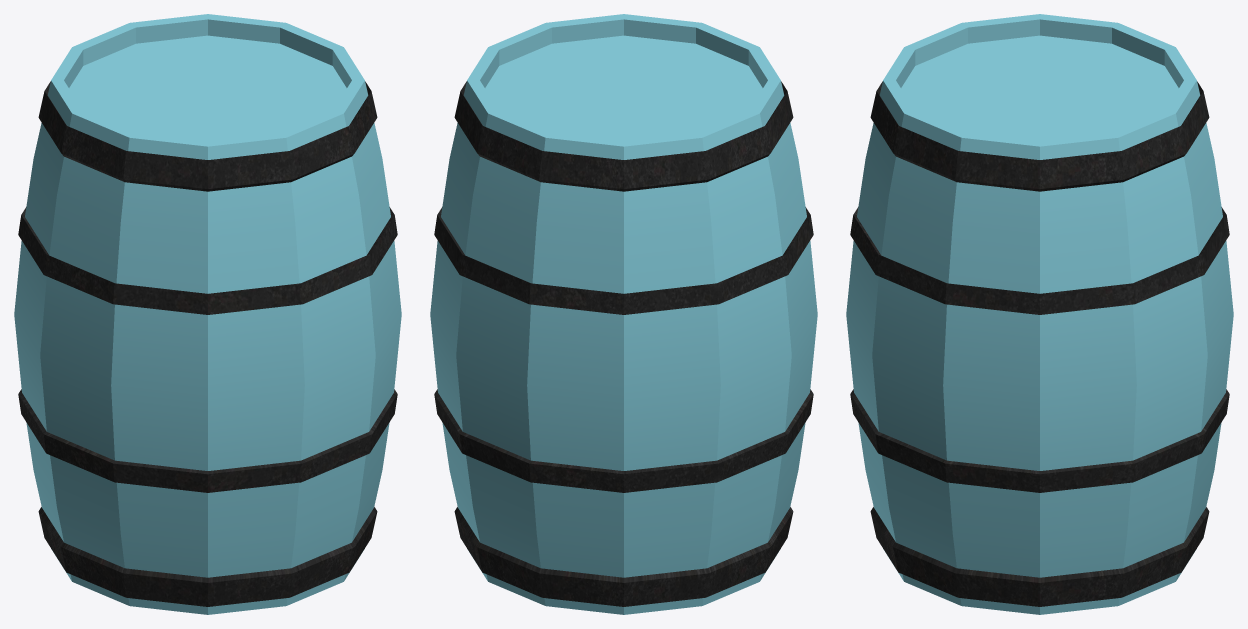
Rendered from project1.fbx.
3 renders of one model, left to right at view 1: azimuth 30°, elevation 25°; view 2: azimuth 150°, elevation 25°; view 3: azimuth 270°, elevation 25°, orthographic.
Parts seen in each view (by area): view 1: Cylinder; view 2: Cylinder; view 3: Cylinder.
Part boxes in pixels (x1=…): Cylinder: x1=14, y1=14, x2=401, y2=614; Cylinder: x1=430, y1=14, x2=817, y2=614; Cylinder: x1=846, y1=14, x2=1233, y2=614.
Bounding box in the file's own units: 90 × 120 × 90.
